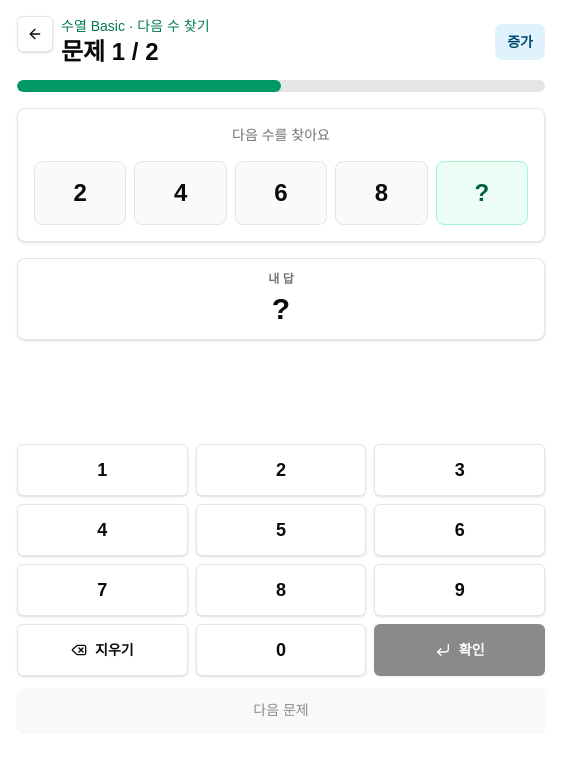
it: SequenceLearning › shows correct feedback after a correct answer
The width and height of the screenshot is (562, 760).
Click the button named "1 입력": (102, 470) [17,444,188,496]
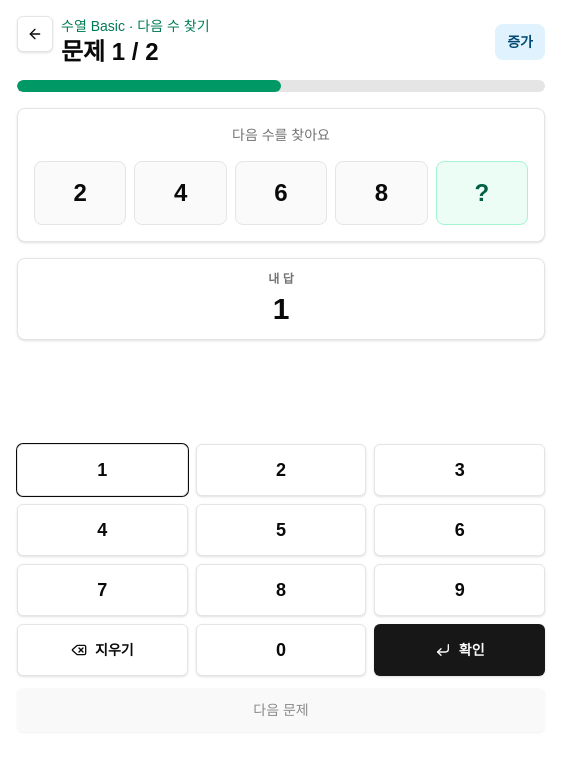
Click the button named "0 입력": (281, 650) [196,624,366,676]
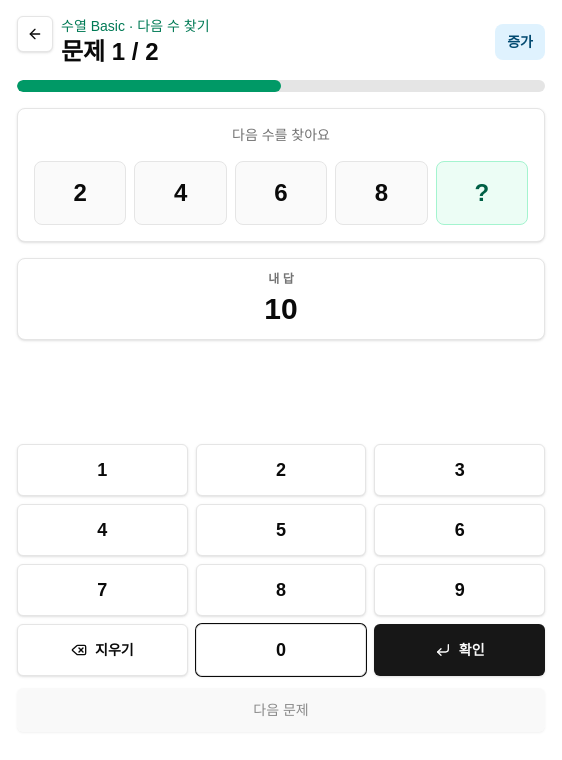
Click the button with aria-label "정답 확인": (460, 650) [374,624,545,676]
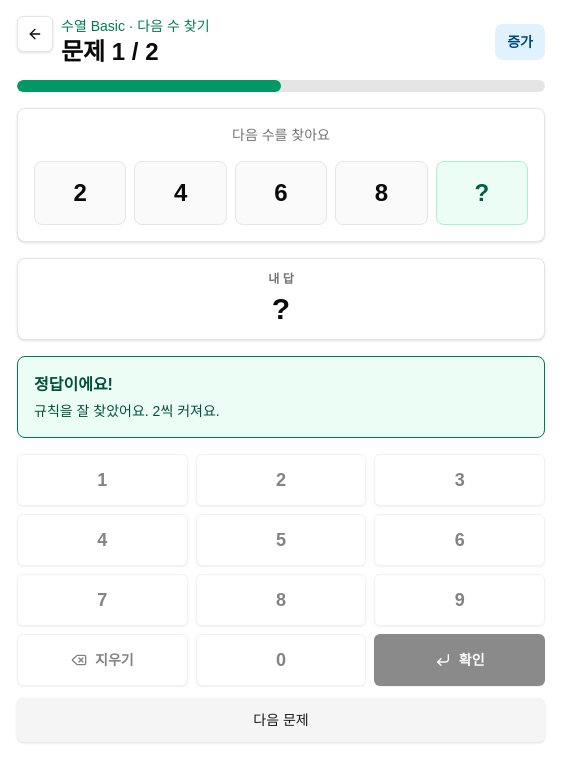
expect the text "정답이에요!" is shown: met, box [34,376,113,393]
expect the text "규칙을 잘 찾았어요. 2씩 커져요." is shown: met, box [34,403,220,419]
expect the button "다음 문제" is enabled: met, box [17,698,545,742]
